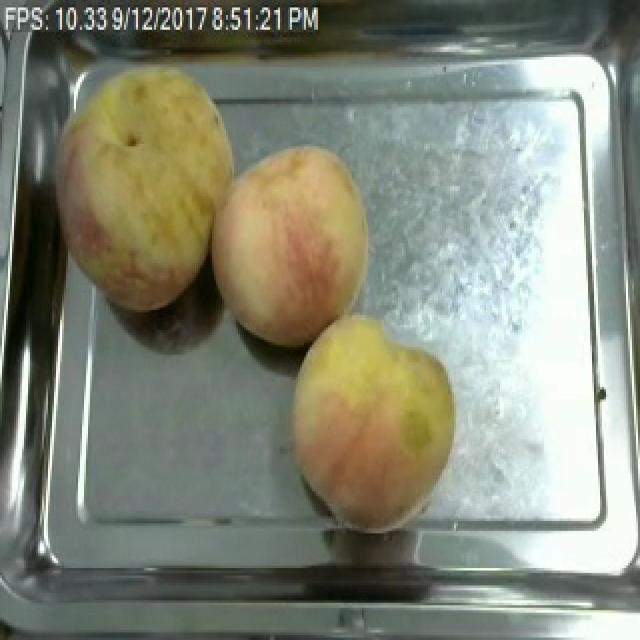Fruit: (42, 50, 254, 320), (280, 308, 466, 540), (204, 136, 380, 355)
